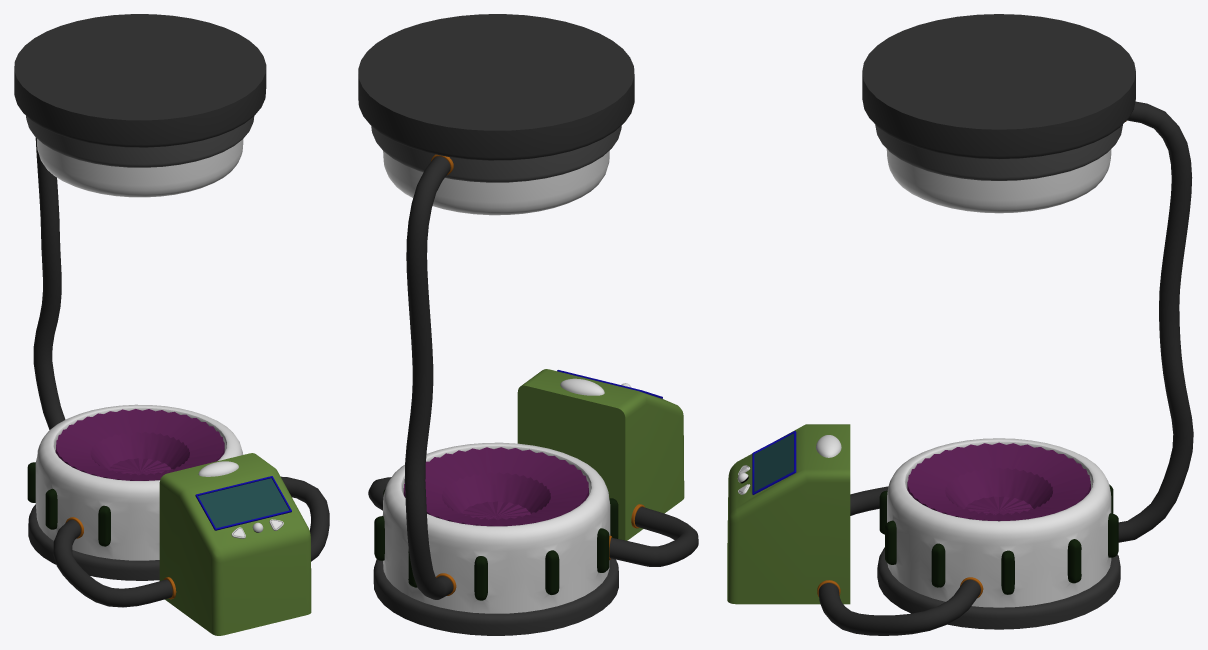
The model's file is Impresora3D.fbx.
The picture shows the model from 3 angles, left to right: view 1: azimuth 30°, elevation 25°; view 2: azimuth 150°, elevation 25°; view 3: azimuth 270°, elevation 25°; orthographic projection. The views are drawn at different scales.
Parts seen in each view (by area): view 1: Cylinder013, Box010, Impresora3d, CajaImpresora001; view 2: Cylinder013, Box010, Impresora3d, CajaImpresora001; view 3: Cylinder013, Box010, Impresora3d.
Part boxes in pixels (bbox=[...]): Cylinder013: bbox=[14, 14, 266, 580]; Box010: bbox=[159, 453, 311, 635]; Impresora3d: bbox=[33, 137, 329, 607]; CajaImpresora001: bbox=[198, 461, 263, 532]; Cylinder013: bbox=[358, 14, 634, 635]; Box010: bbox=[517, 369, 684, 540]; Impresora3d: bbox=[368, 154, 698, 599]; CajaImpresora001: bbox=[560, 378, 630, 395]; Cylinder013: bbox=[862, 14, 1135, 629]; Box010: bbox=[727, 424, 850, 604]; Impresora3d: bbox=[817, 101, 1193, 635].
Bounding box in the file's own units: 1.64 × 2.72 × 2.27.
